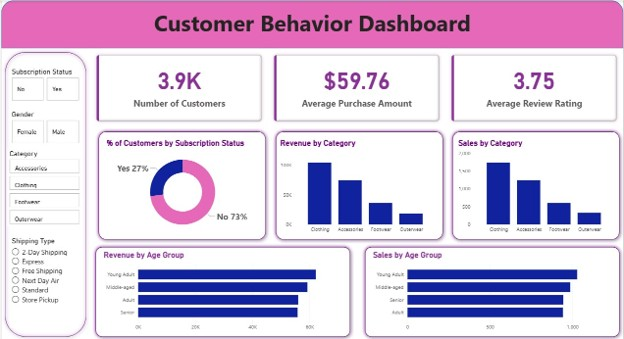

What the dashboard file says about the page in this screenshot:
{"tool":"powerbi","page":{"name":"Page 1","canvas":[1500,820],"ordinal":0},"visuals":[{"type":"cardVisual","fields":{"Data":["public customer.Number of Customers","public customer.Average Purchase Amount","public customer.Average Review Rating"]},"box":[212.9,115.3,1286.5,191.6],"z":2000},{"type":"shape","box":[218.3,585.6,631.7,234.2],"z":2500,"group":"g1"},{"type":"shape","box":[0,0,1499.4,115.3],"z":3000},{"type":"textbox","box":[0,12.4,1499.4,102.9],"z":4000},{"type":"shape","box":[225.4,307,420.5,278.6],"z":5000},{"type":"donutChart","title":"% of Customers by Subscription Status","fields":{"Category":["public customer.subscription_status"],"Y":["CountNonNull(public customer.customer_id)"]},"box":[248.4,331.8,376.2,237.8],"z":6000},{"type":"shape","box":[1078.9,307,420.5,278.6],"z":7000},{"type":"shape","box":[652.1,307,420.5,278.6],"z":8000},{"type":"clusteredColumnChart","title":"Revenue by Category","fields":{"Y":["Sum(public customer.purchase_amount)"],"Category":["public customer.category"]},"box":[667.2,331.8,385.1,237.8],"z":9000},{"type":"clusteredColumnChart","title":"Sales by Category","fields":{"Y":["CountNonNull(public customer.customer_id)"],"Category":["public customer.category"]},"box":[1096.6,331.8,385.1,237.8],"z":10000},{"type":"shape","box":[0,115.3,212.9,704.5],"z":11000},{"type":"advancedSlicerVisual","fields":{"Values":["public customer.subscription_status"]},"box":[19.5,161.5,173.9,85.2],"z":12000},{"type":"advancedSlicerVisual","fields":{"Values":["public customer.gender"]},"box":[19.5,264.4,173.9,85.2],"z":13000},{"type":"advancedSlicerVisual","fields":{"Values":["public customer.category"]},"box":[14.2,358.4,179.2,186.3],"z":14000},{"type":"listSlicer","fields":{"Values":["public customer.shipping_type"]},"box":[19.5,569.6,168.6,220],"z":15000},{"type":"shape","box":[867.7,585.6,631.7,234.2],"z":16000},{"type":"clusteredBarChart","title":"Sales by Age Group","fields":{"Y":["CountNonNull(public customer.customer_id)"],"Category":["public customer.age_group"]},"box":[890.8,601.5,585.6,204.1],"z":17000},{"type":"clusteredBarChart","title":"Revenue by Age Group","fields":{"Y":["Sum(public customer.purchase_amount)"],"Category":["public customer.age_group"]},"box":[241.4,601.6,585.6,204.1],"z":17500,"group":"g1"},{"type":"group","id":"g1","title":"Group 1","box":[218.3,585.6,631.7,234.2],"z":17501}]}

Visuals, with their boxes in screenshot pixels (x1, y1, x2, y2), scaled from the page's 1500x820 canvas onto the 624x339 screenshot:
cardVisual - public customer.Number of Customers x public customer.Average Purchase Amount: [89,48,623,127]
shape: [91,242,354,338]
shape: [0,0,623,48]
textbox: [0,5,623,48]
shape: [94,127,269,242]
"% of Customers by Subscription Status" donutChart: [103,137,260,235]
shape: [449,127,623,242]
shape: [271,127,446,242]
"Revenue by Category" clusteredColumnChart: [278,137,438,235]
"Sales by Category" clusteredColumnChart: [456,137,616,235]
shape: [0,48,89,338]
advancedSlicerVisual - public customer.subscription_status: [8,67,80,102]
advancedSlicerVisual - public customer.gender: [8,109,80,145]
advancedSlicerVisual - public customer.category: [6,148,80,225]
listSlicer - public customer.shipping_type: [8,235,78,326]
shape: [361,242,623,338]
"Sales by Age Group" clusteredBarChart: [371,249,614,333]
"Revenue by Age Group" clusteredBarChart: [100,249,344,333]
"Group 1" group: [91,242,354,338]
